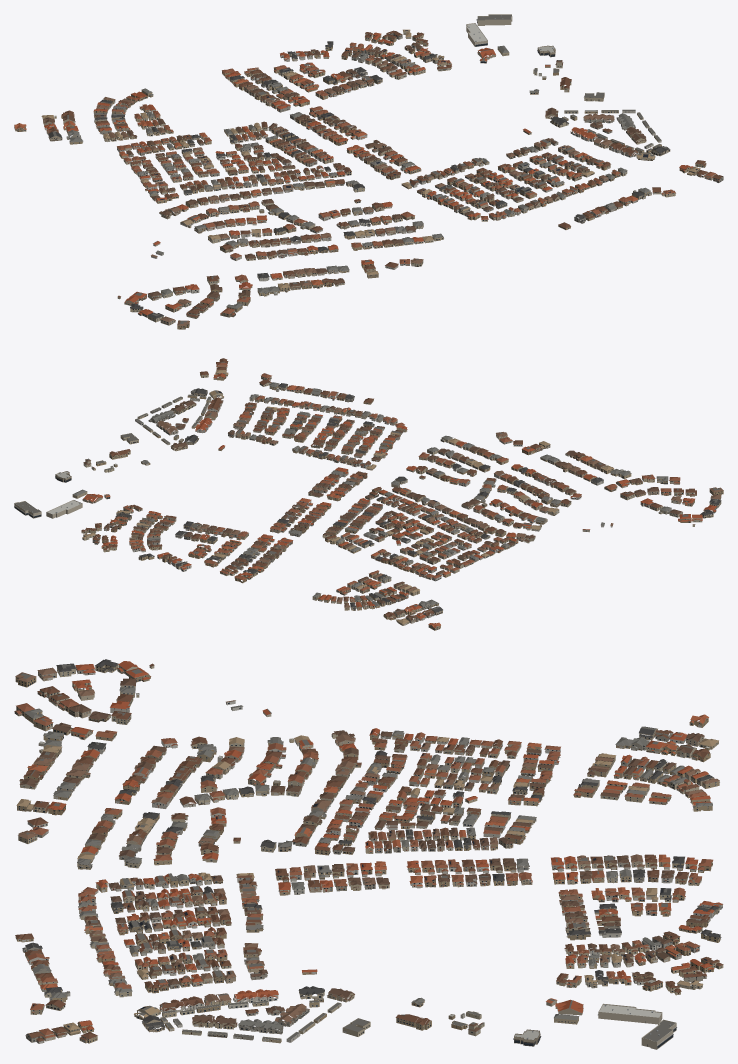
3 views of the same model, one above another, from view 1: azimuth 30°, elevation 25°; view 2: azimuth 150°, elevation 25°; view 3: azimuth 270°, elevation 25° (orthographic). The views are drawn at different scales.
Visible parts, largest first — view 1: buildings_r4_c4_lod0; view 2: buildings_r4_c4_lod0; view 3: buildings_r4_c4_lod0.
Part boxes in pixels (left/top/right/bottom): buildings_r4_c4_lod0: left=14, top=14, right=723, bottom=329; buildings_r4_c4_lod0: left=14, top=358, right=723, bottom=630; buildings_r4_c4_lod0: left=14, top=659, right=723, bottom=1049.
Size of the model in its own units: 1085 by 39.23 by 811.
